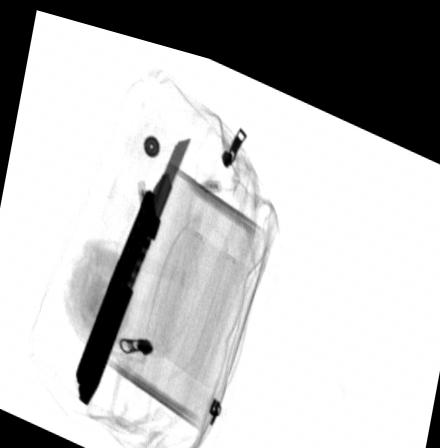Knife: (74, 125, 193, 402)
